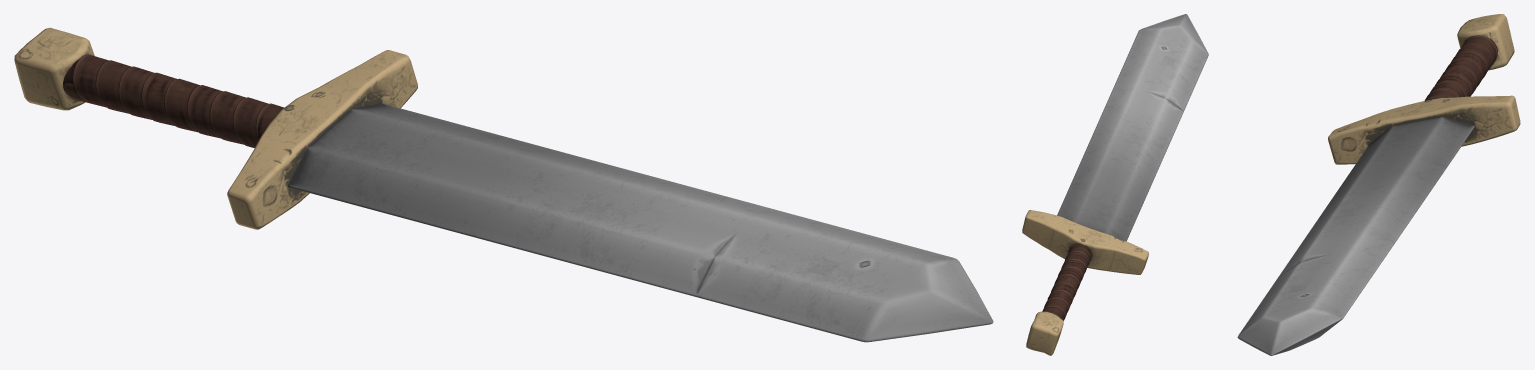
The picture shows the model from 3 angles, left to right: view 1: azimuth 30°, elevation 25°; view 2: azimuth 150°, elevation 25°; view 3: azimuth 330°, elevation 25°; orthographic projection. The views are drawn at different scales.
Parts seen in each view (by area): view 1: Sword; view 2: Sword; view 3: Sword.
Boxes of the visible parts, bbox=[...] form: Sword: bbox=[14, 27, 993, 342]; Sword: bbox=[1022, 14, 1208, 355]; Sword: bbox=[1237, 14, 1520, 355].
Bounding box in the file's own units: 37.8 × 15.08 × 105.
Materials: 1 (1 with a texture image).
